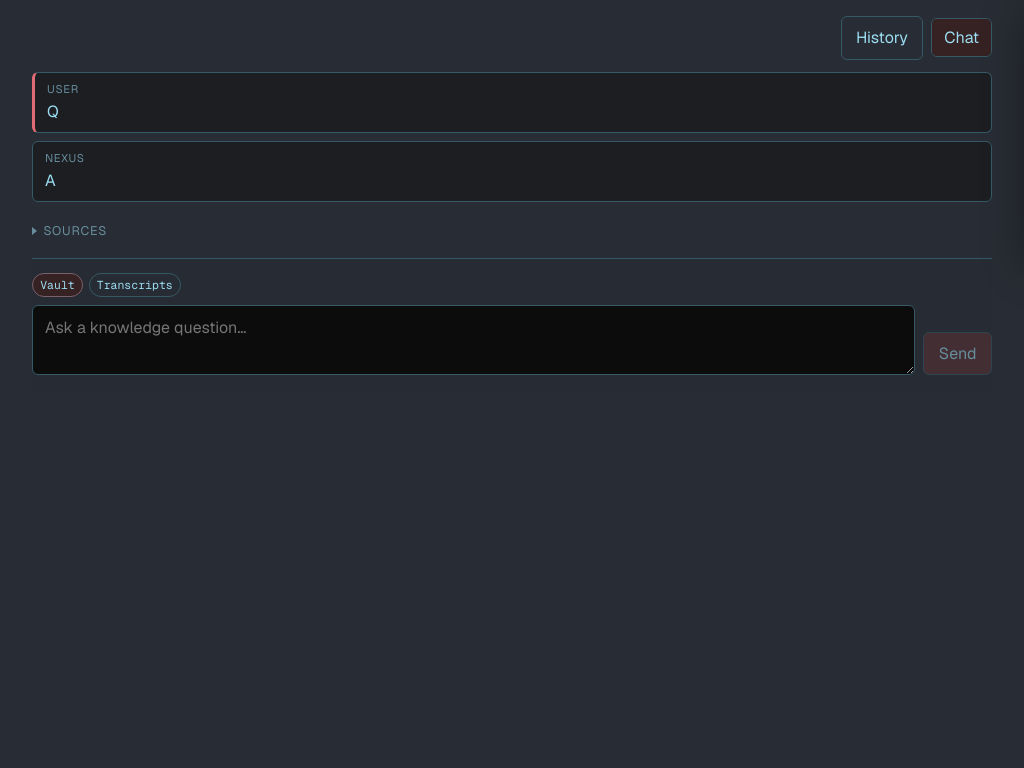
Scenario: Nexus Chat response rendering › shows a collapsed Sources disclosure only when a completed task has sources
Click the button "History": (882, 38) [840,16,923,60]
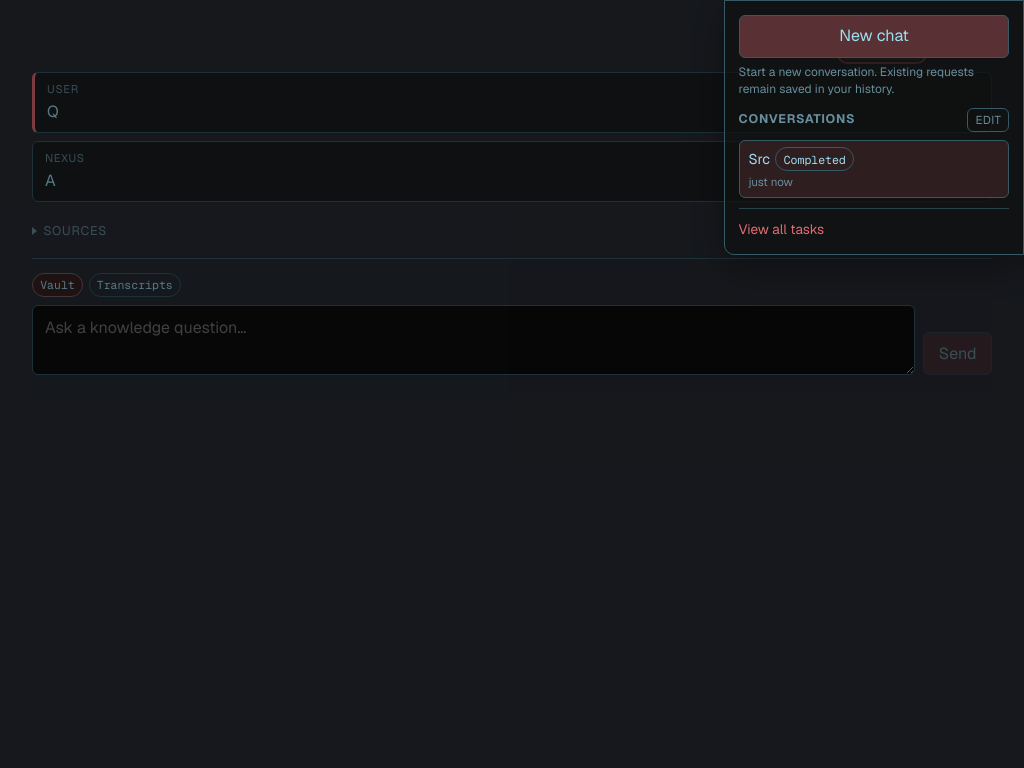
Click the button "Src Completed just now": (815, 159) [739,140,1009,198]
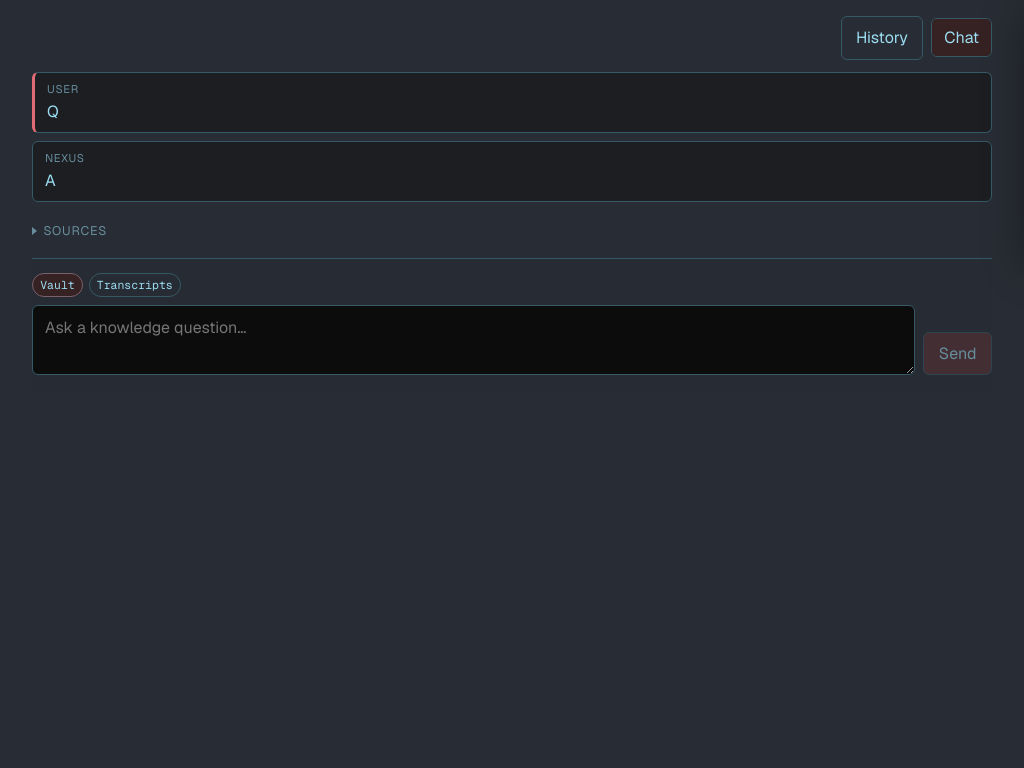
Expected: the text "Sources" is shown, [43,222,107,240]
Expected: the text "Vault note" is not shown
Expanding the disclosure reveals the source list.
Click the heading "Sources": (70, 231) [32,222,107,240]
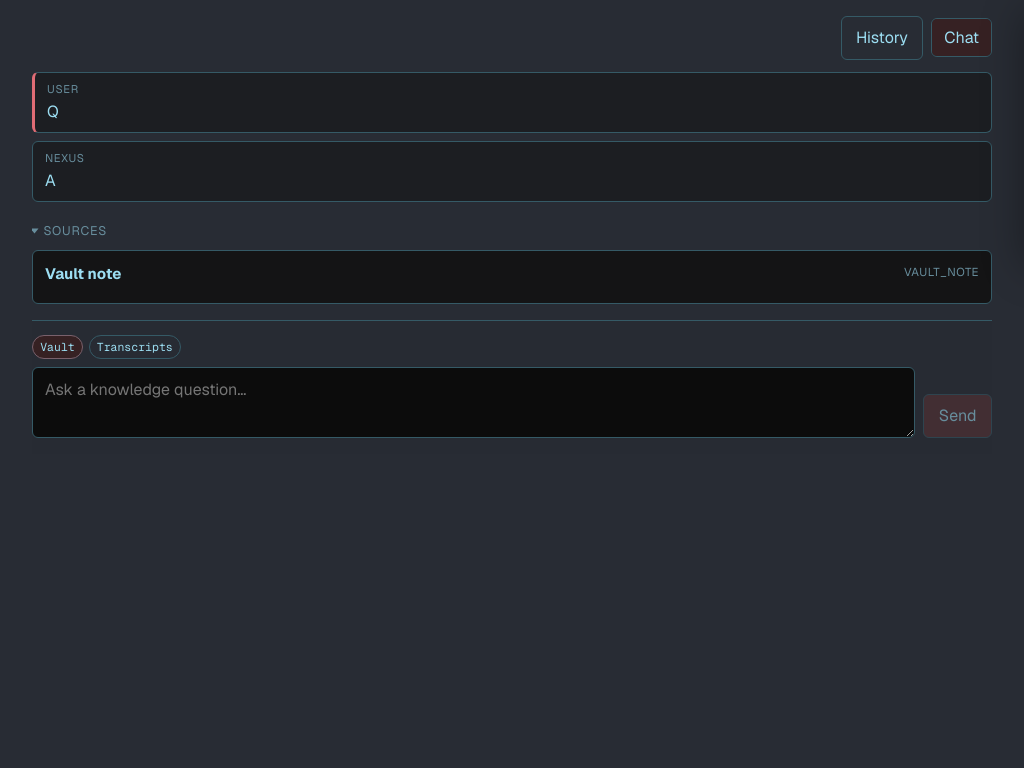
Expected: the heading "Vault note" is shown, [45,263,121,286]
